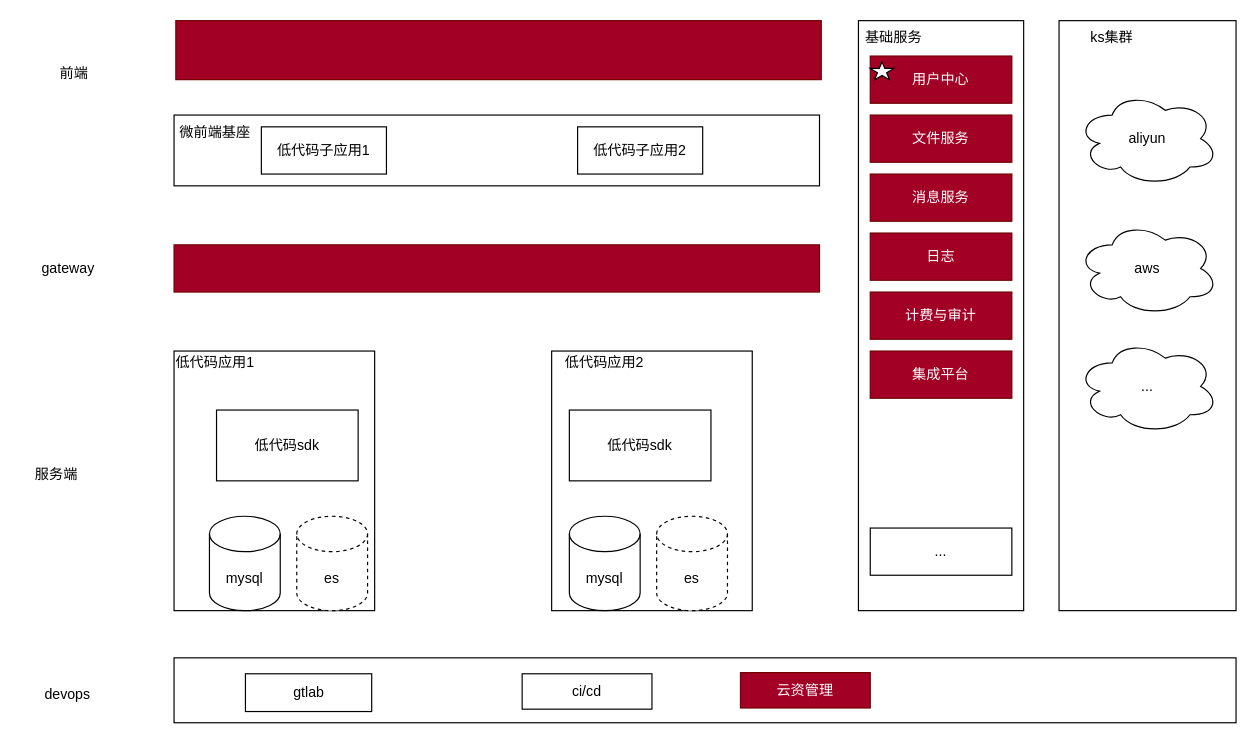
The diagram is 1257 pixels wide and 743 high, and some of its shapes have lost their labels. Here are the shapes that lost their labels. From the top down, the centre of each, then its label:
At [498,49]: "统一登录平台".
At [496,268]: "网关路由".
